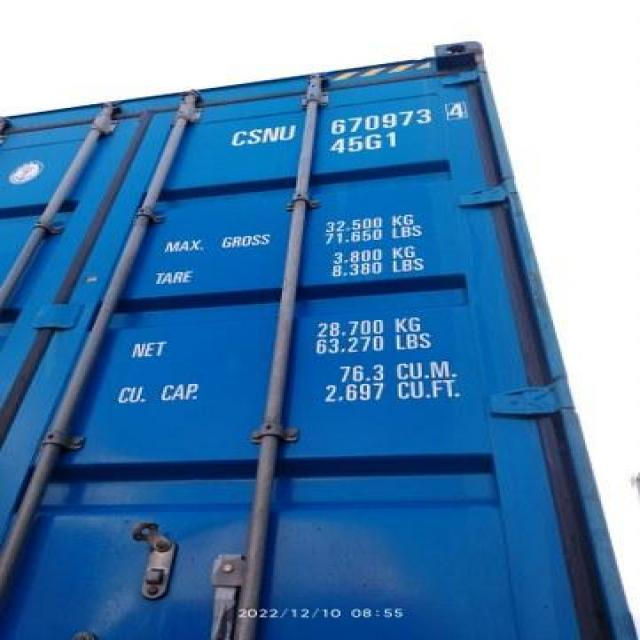container_number_h: (188, 95, 488, 185)
